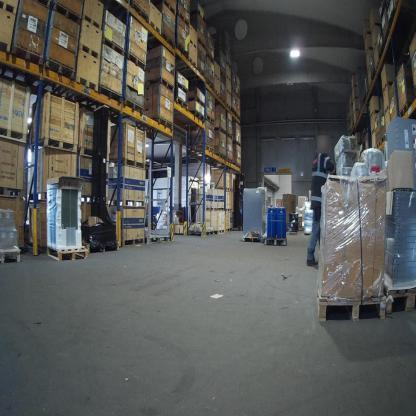pallet: (317, 296, 387, 325), (44, 136, 77, 155), (48, 246, 87, 262)
